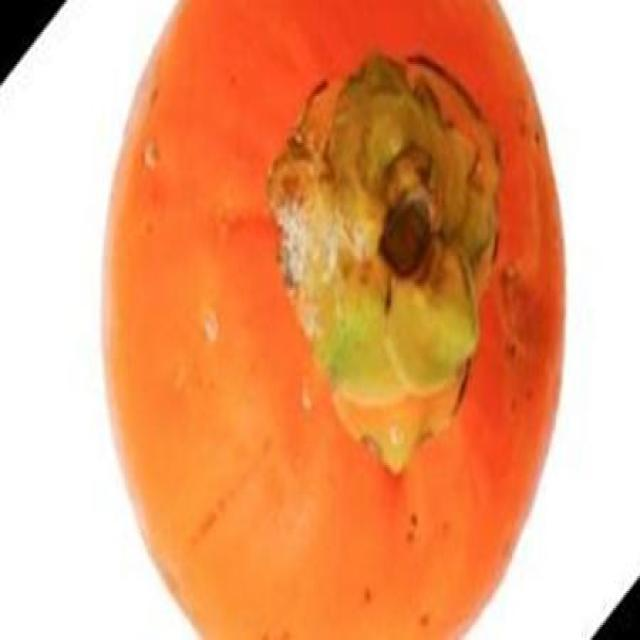good: (100, 0, 569, 638)
